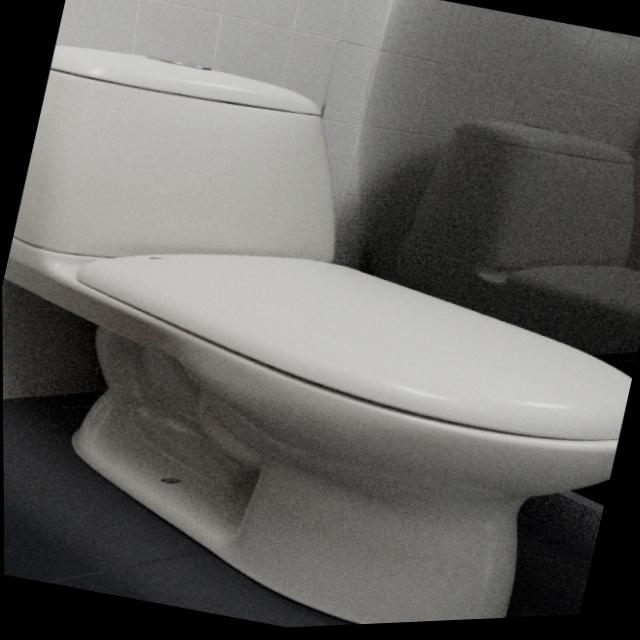toilet: (0, 18, 640, 640)
